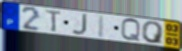2: (20, 5, 43, 32)
I: (97, 14, 106, 40)
J: (71, 14, 89, 37)
Q: (141, 21, 166, 45), (121, 18, 142, 43)
T: (45, 9, 63, 33)
